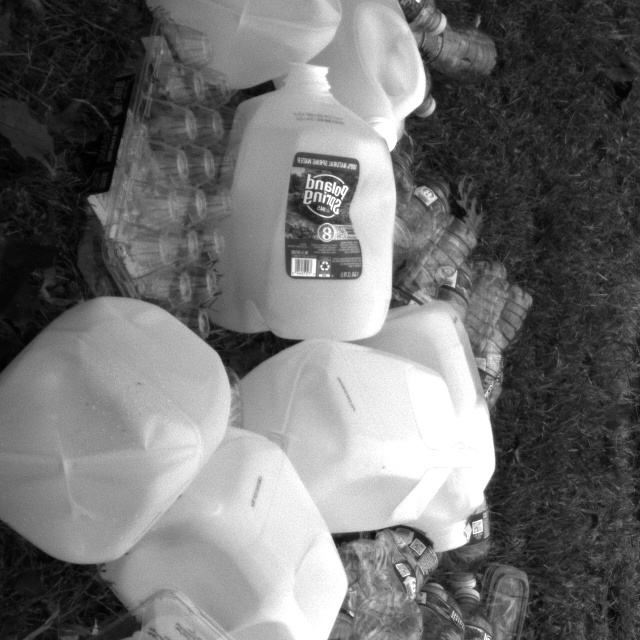bottle: (363, 141, 490, 294), (456, 256, 540, 406), (384, 6, 510, 75)
can: (0, 288, 254, 556), (201, 61, 404, 349), (101, 417, 351, 640), (234, 332, 457, 542), (358, 295, 509, 565), (274, 0, 445, 170), (134, 0, 316, 97)
container: (72, 24, 271, 361), (114, 584, 321, 640)
